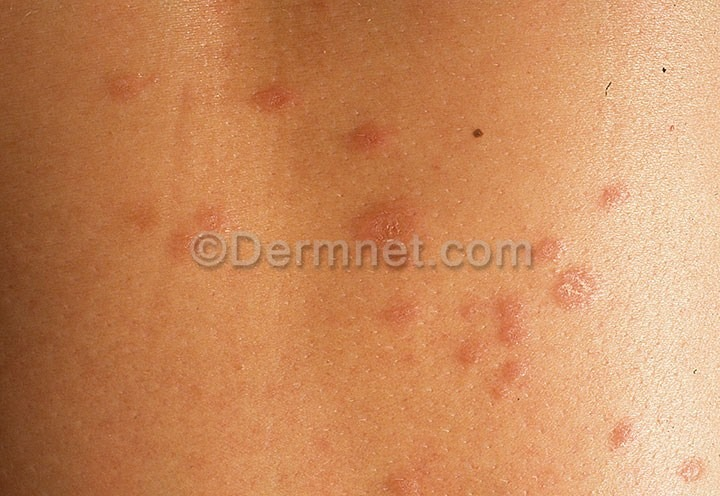Psoriasis: (469, 226, 600, 408), (237, 72, 403, 167), (579, 392, 714, 487), (105, 181, 256, 262), (338, 434, 458, 496), (354, 281, 456, 353), (331, 189, 424, 264), (81, 59, 176, 121), (567, 167, 647, 220)
